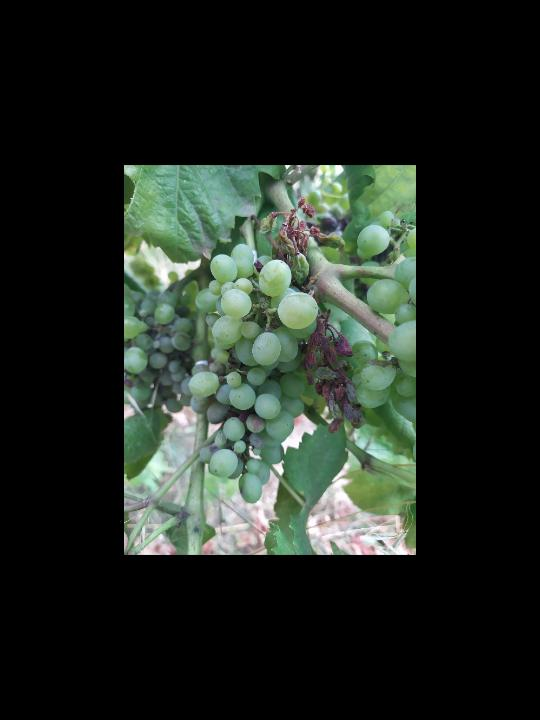grape: (187, 240, 363, 506)
